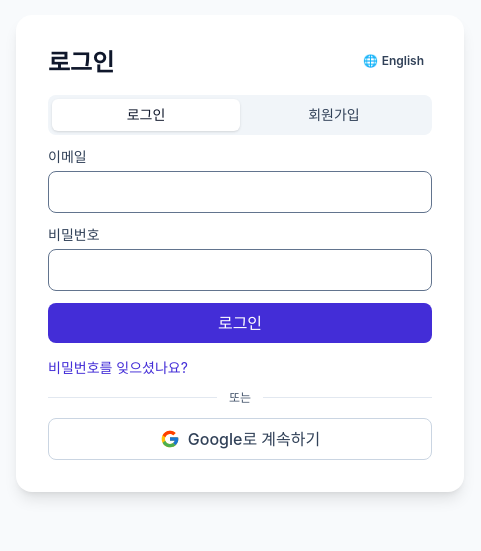
it: 회원가입은 비밀번호 확인이 다르면 요청하지 않는다
The width and height of the screenshot is (481, 551).
Click the button "회원가입".
click(334, 114)  # box [240,98,428,130]
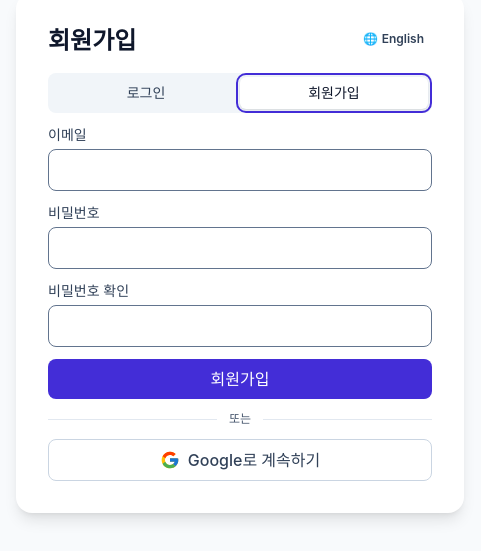
Type "new@example.com" into the field labelled "이메일".
click(240, 170); type("new@example.com")  # box [48,149,432,191]
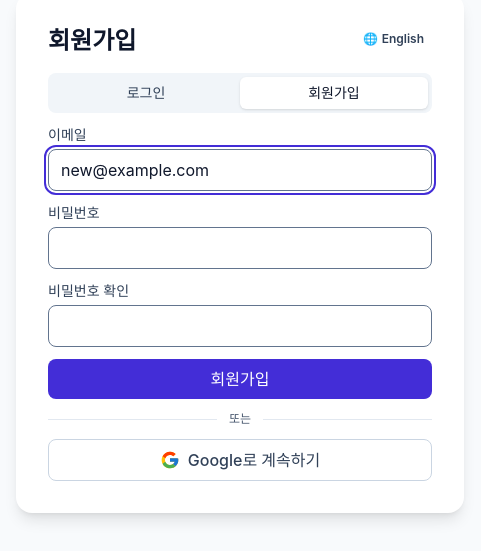
Type "secret1" into the password field labelled "비밀번호".
click(240, 248); type("secret1")  # box [48,227,432,269]
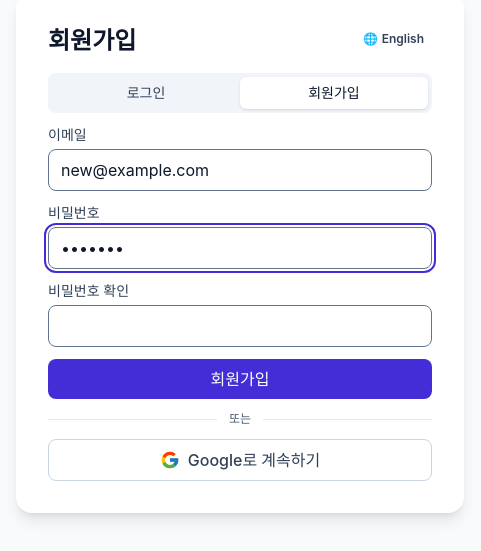
Type "secret2" into the password field labelled "비밀번호 확인".
click(240, 326); type("secret2")  # box [48,305,432,347]
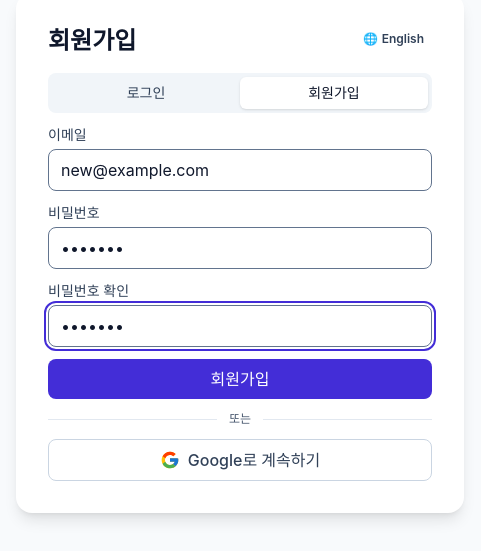
Click the button "회원가입" below "비밀번호 확인".
click(240, 379)  # box [48,359,432,399]
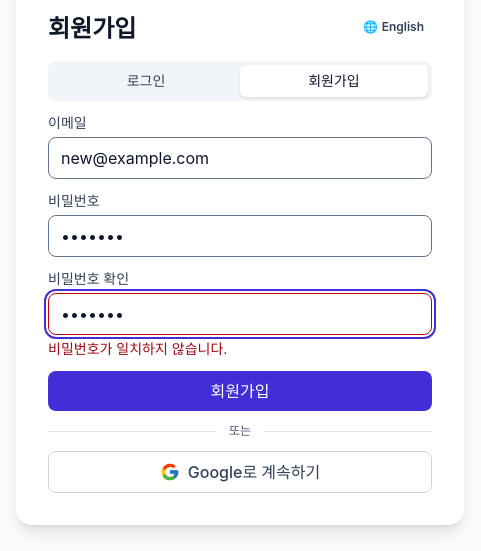
Expected: the text "비밀번호가 일치하지 않습니다." is shown, [48,340,227,357]
